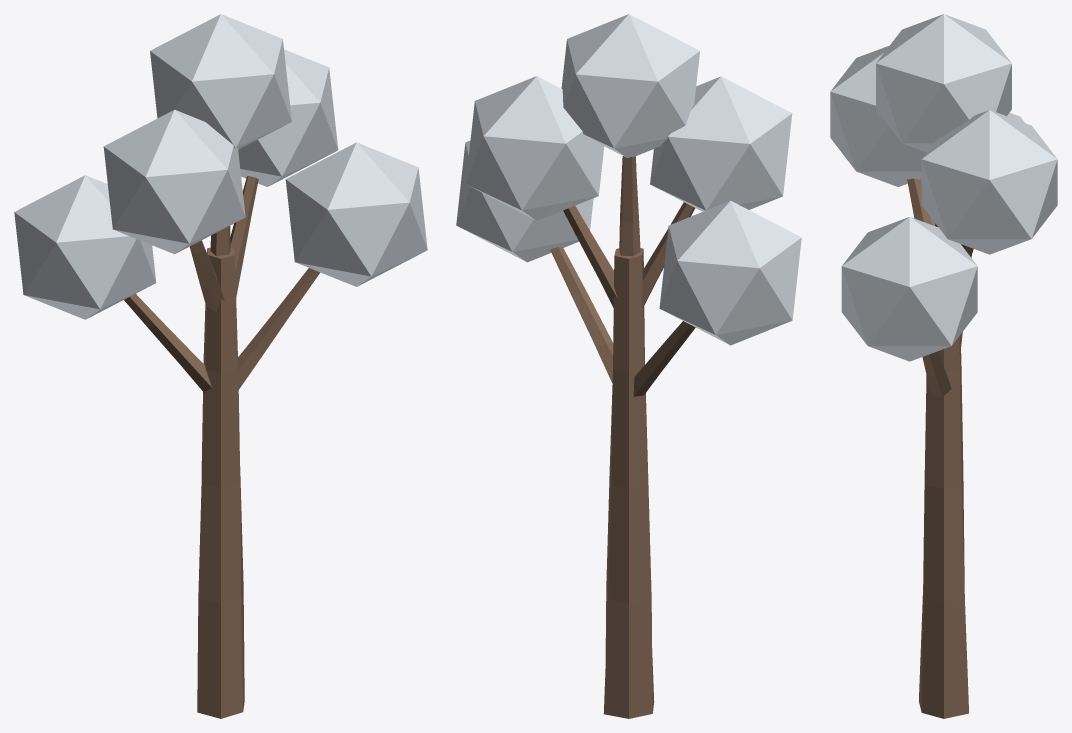
File: 12_SilverTree_Moon.glb
3 renders of one model, left to right at view 1: azimuth 30°, elevation 25°; view 2: azimuth 150°, elevation 25°; view 3: azimuth 270°, elevation 25°, orthographic.
Parts seen in each view (by area): view 1: SilverTree_Trunk, SilverTree_Foliage2, SilverTree_Foliage3, SilverTree_Foliage1, SilverTree_Foliage5, SilverTree_Foliage4, SilverTree_Branch2, SilverTree_Branch1, SilverTree_Branch4, SilverTree_Branch3; view 2: SilverTree_Trunk, SilverTree_Foliage1, SilverTree_Foliage5, SilverTree_Foliage4, SilverTree_Foliage3, SilverTree_Foliage2, SilverTree_Branch2, SilverTree_Branch5, SilverTree_Branch4, SilverTree_Branch1, SilverTree_Branch3; view 3: SilverTree_Foliage2, SilverTree_Foliage4, SilverTree_Trunk, SilverTree_Foliage5, SilverTree_Foliage3, SilverTree_Branch2, SilverTree_Branch3.
Boxes of the visible parts, bbox=[...] form: SilverTree_Trunk: bbox=[197, 247, 244, 718]; SilverTree_Foliage2: bbox=[285, 142, 427, 286]; SilverTree_Foliage3: bbox=[103, 109, 245, 254]; SilverTree_Foliage1: bbox=[14, 175, 156, 319]; SilverTree_Foliage5: bbox=[150, 14, 291, 149]; SilverTree_Foliage4: bbox=[238, 49, 338, 186]; SilverTree_Branch2: bbox=[238, 268, 320, 389]; SilverTree_Branch1: bbox=[124, 294, 212, 392]; SilverTree_Branch4: bbox=[230, 176, 258, 296]; SilverTree_Branch3: bbox=[189, 240, 224, 312]; SilverTree_Trunk: bbox=[603, 248, 654, 718]; SilverTree_Foliage1: bbox=[659, 200, 801, 345]; SilverTree_Foliage5: bbox=[561, 14, 699, 157]; SilverTree_Foliage4: bbox=[465, 76, 604, 220]; SilverTree_Foliage3: bbox=[650, 76, 792, 211]; SilverTree_Foliage2: bbox=[456, 140, 593, 262]; SilverTree_Branch2: bbox=[550, 247, 613, 383]; SilverTree_Branch5: bbox=[619, 156, 640, 256]; SilverTree_Branch4: bbox=[563, 206, 617, 307]; SilverTree_Branch1: bbox=[633, 321, 695, 396]; SilverTree_Branch3: bbox=[641, 202, 695, 309]; SilverTree_Foliage2: bbox=[841, 217, 977, 361]; SilverTree_Foliage4: bbox=[921, 110, 1057, 254]; SilverTree_Trunk: bbox=[919, 335, 968, 718]; SilverTree_Foliage5: bbox=[876, 14, 1011, 152]; SilverTree_Foliage3: bbox=[830, 46, 926, 186]; SilverTree_Branch2: bbox=[922, 351, 951, 397]; SilverTree_Branch3: bbox=[907, 178, 932, 224].
Bounding box in the file's own units: 1.83 × 3.35 × 0.9954.
